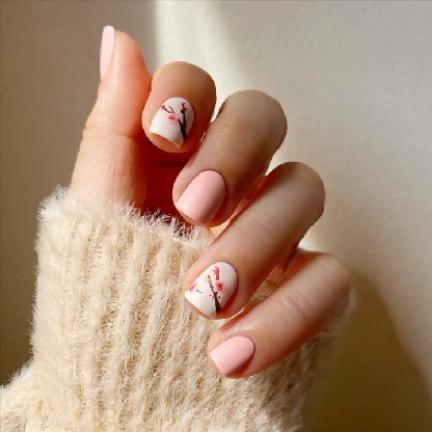Nail: (185, 262, 238, 317), (175, 170, 226, 224), (149, 97, 194, 148), (209, 336, 256, 376), (100, 25, 116, 81)
